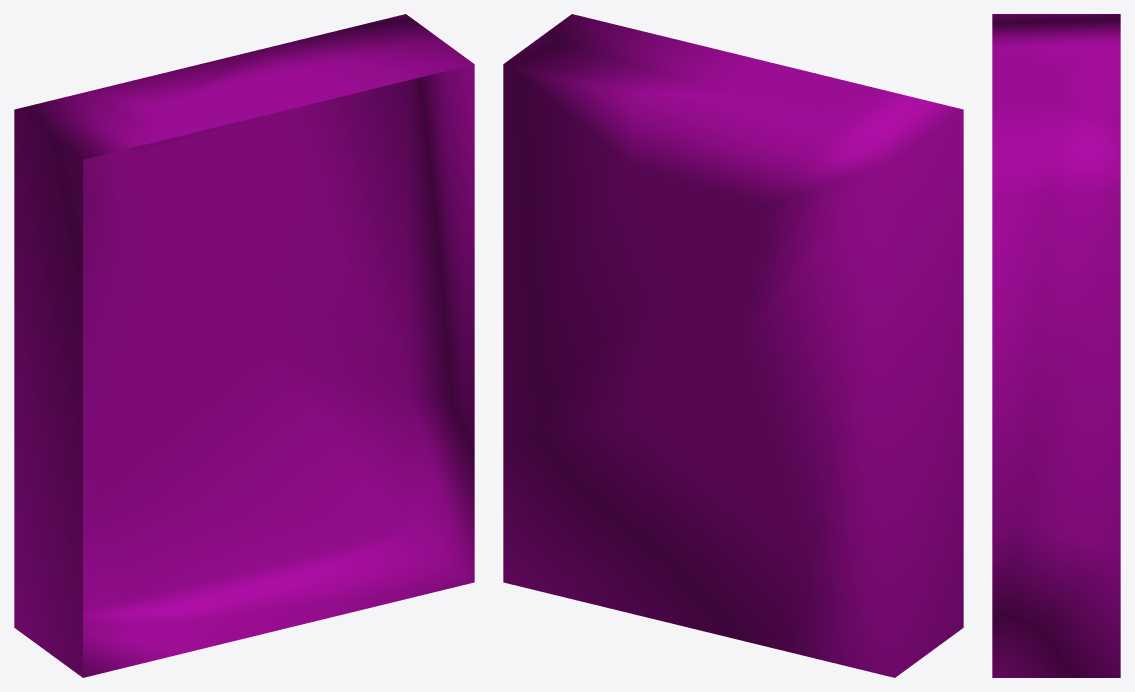
File: Collectionable_merged.fbx
3 renders of one model, left to right at view 1: azimuth 30°, elevation 25°; view 2: azimuth 150°, elevation 25°; view 3: azimuth 270°, elevation 25°, orthographic. The views are drawn at different scales.
Visible parts, largest first — view 1: Colectionable_1_merged; view 2: Colectionable_1_merged; view 3: Colectionable_1_merged.
Part boxes in pixels (x1,y1,x2,y2): Colectionable_1_merged: (14,14,474,677); Colectionable_1_merged: (503,14,963,677); Colectionable_1_merged: (992,14,1120,677).
Size of the model in its own units: 10.24 by 12.95 by 3.11.
